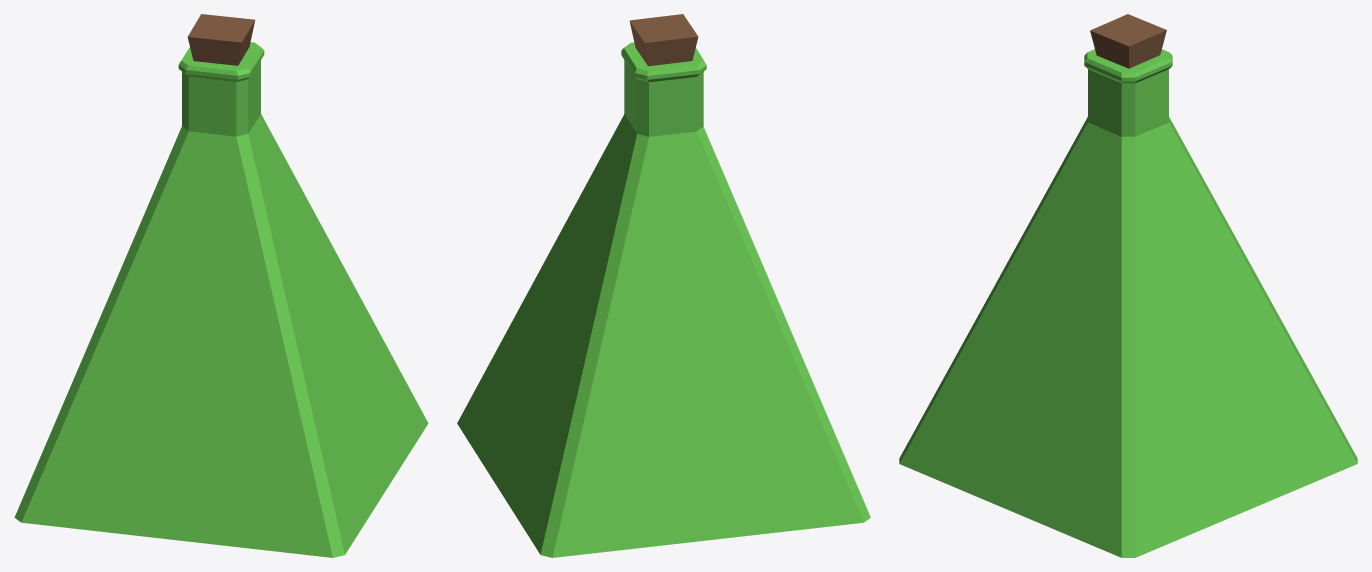
Rendered from Potion_04_Green.fbx.
3 renders of one model, left to right at view 1: azimuth 30°, elevation 25°; view 2: azimuth 150°, elevation 25°; view 3: azimuth 270°, elevation 25°, orthographic. The views are drawn at different scales.
Parts seen in each view (by area): view 1: Cone.014, Cube.030, Cube.031; view 2: Cone.014, Cube.030, Cube.031; view 3: Cone.014, Cube.030, Cube.031.
Part boxes in pixels (x1,y1,x2,y2): Cone.014: [14, 114, 428, 557]; Cube.030: [178, 42, 264, 136]; Cube.031: [187, 14, 255, 65]; Cone.014: [457, 114, 870, 557]; Cube.030: [621, 42, 706, 136]; Cube.031: [629, 14, 698, 66]; Cone.014: [899, 117, 1357, 557]; Cube.030: [1084, 49, 1172, 136]; Cube.031: [1090, 14, 1166, 68].
Size of the model in its own units: 31.08 by 32.26 by 31.08.
